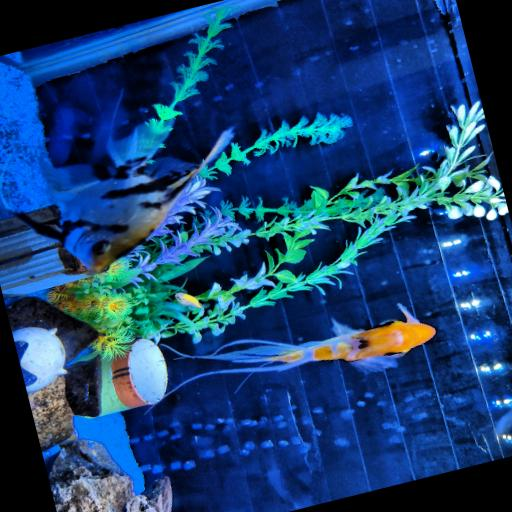Fish: (17, 122, 232, 272), (159, 304, 435, 396), (174, 292, 204, 311), (495, 405, 511, 437)
